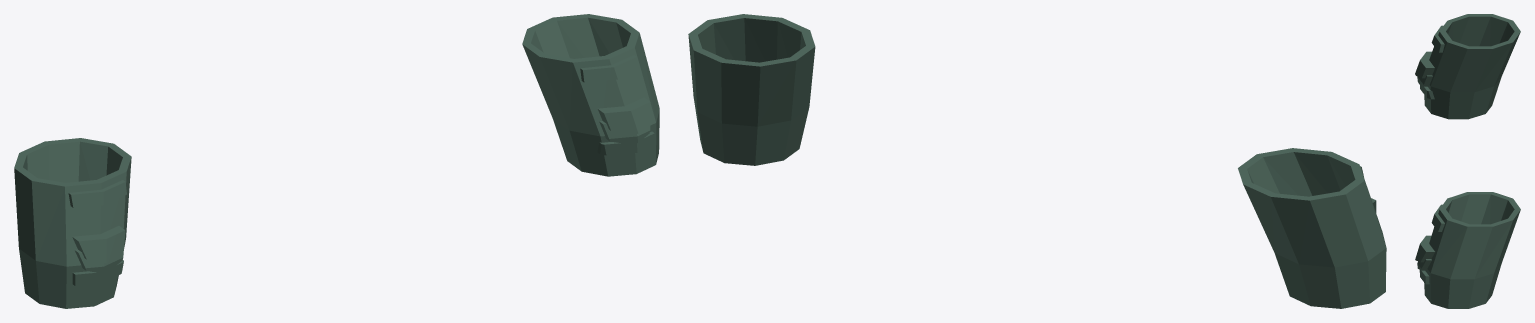
File: leather_wrists-male-scaledHide.glb
3 renders of one model, left to right at view 1: azimuth 30°, elevation 25°; view 2: azimuth 150°, elevation 25°; view 3: azimuth 270°, elevation 25°, orthographic. The views are drawn at different scales.
Parts seen in each view (by area): view 1: leather wrist guard -1, leather wrist guard 1, Lapped hide reinforcement leather wrist guard 1 0, Lapped hide reinforcement leather wrist guard -1 0, Bracer rolled upper lip 1, Bracer rolled upper lip -1, Bracer lower fastening strap 1, Bracer lower fastening strap -1, Lapped hide reinforcement leather wrist guard 1 1, Lapped hide reinforcement leather wrist guard -1 1; view 2: leather wrist guard -1, leather wrist guard 1; view 3: leather wrist guard 1, leather wrist guard -1, Lapped hide reinforcement leather wrist guard -1 0, Lapped hide reinforcement leather wrist guard 1 0, Bracer rolled upper lip 1, Bracer rolled upper lip -1, Lapped hide reinforcement leather wrist guard -1 1, Bracer lower fastening strap -1, Lapped hide reinforcement leather wrist guard 1 1, Bracer lower fastening strap 1.
Part boxes in pixels (x1=…): leather wrist guard -1: x1=14, y1=138, x2=131, y2=308; leather wrist guard 1: x1=522, y1=14, x2=659, y2=176; Lapped hide reinforcement leather wrist guard 1 0: x1=598, y1=97, x2=650, y2=134; Lapped hide reinforcement leather wrist guard -1 0: x1=72, y1=226, x2=125, y2=263; Bracer rolled upper lip 1: x1=580, y1=55, x2=638, y2=82; Bracer rolled upper lip -1: x1=68, y1=180, x2=126, y2=207; Bracer lower fastening strap 1: x1=597, y1=131, x2=654, y2=155; Bracer lower fastening strap -1: x1=72, y1=260, x2=123, y2=285; Lapped hide reinforcement leather wrist guard 1 1: x1=599, y1=121, x2=650, y2=144; Lapped hide reinforcement leather wrist guard -1 1: x1=74, y1=249, x2=123, y2=273; leather wrist guard -1: x1=1238, y1=148, x2=1386, y2=308; leather wrist guard 1: x1=688, y1=14, x2=815, y2=165; leather wrist guard 1: x1=1424, y1=192, x2=1520, y2=308; leather wrist guard -1: x1=1424, y1=14, x2=1520, y2=119; Lapped hide reinforcement leather wrist guard -1 0: x1=1415, y1=51, x2=1434, y2=78; Lapped hide reinforcement leather wrist guard 1 0: x1=1415, y1=235, x2=1434, y2=262; Bracer rolled upper lip 1: x1=1431, y1=204, x2=1444, y2=231; Bracer rolled upper lip -1: x1=1431, y1=25, x2=1444, y2=52; Lapped hide reinforcement leather wrist guard -1 1: x1=1417, y1=75, x2=1432, y2=86; Bracer lower fastening strap -1: x1=1419, y1=84, x2=1434, y2=99; Lapped hide reinforcement leather wrist guard 1 1: x1=1417, y1=259, x2=1431, y2=270; Bracer lower fastening strap 1: x1=1419, y1=270, x2=1429, y2=284.
Bounding box in the file's own units: 3.68 × 0.63 × 0.7548.
